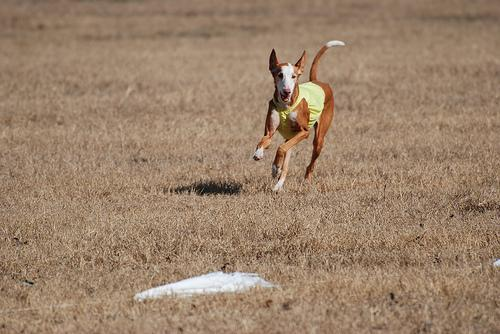Ibizan_hound: (253, 40, 341, 189)
